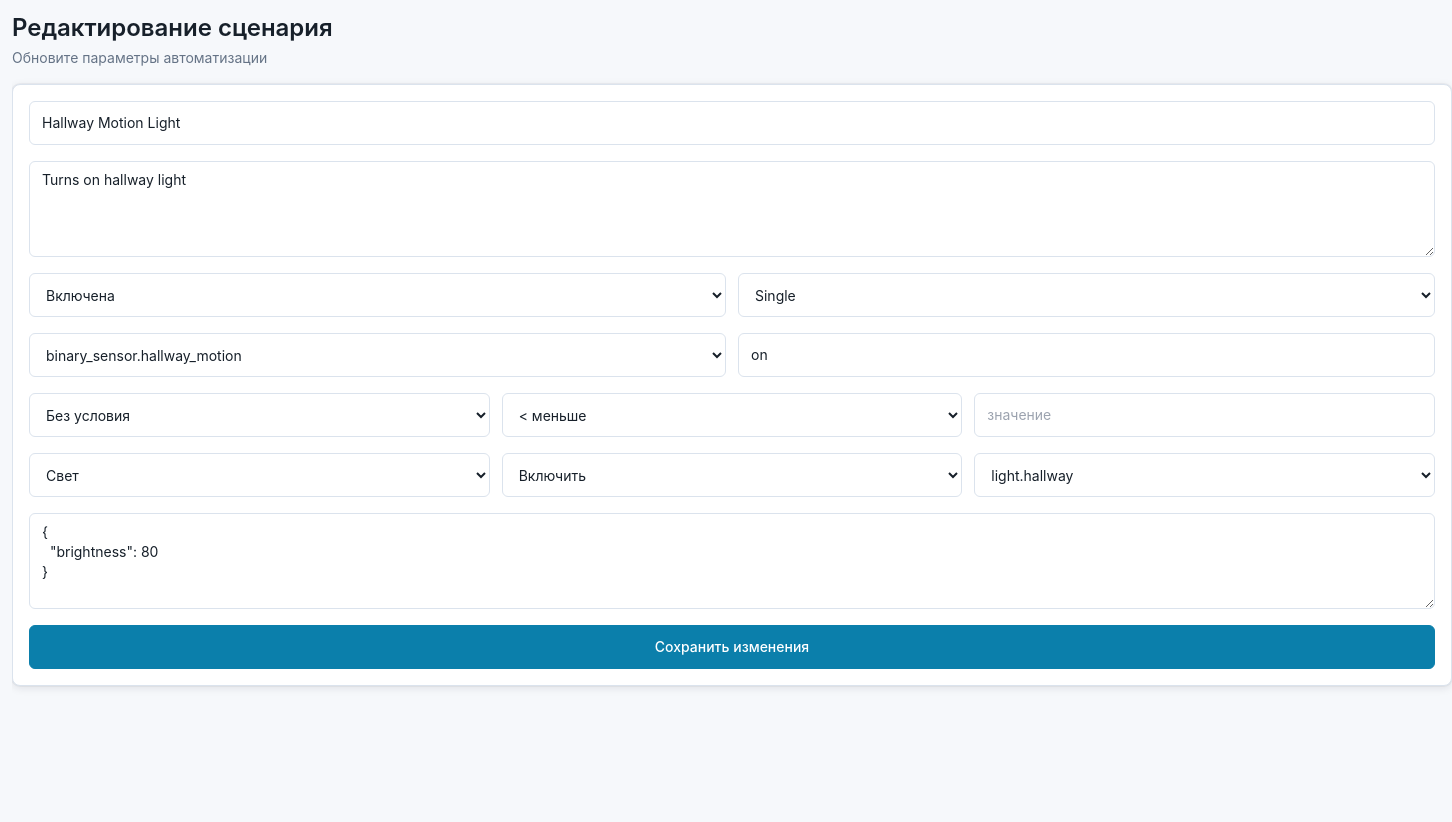
it: AutomationEditPage › hydrates the form and submits updated automation payload
Replace the text in the field named "Название" with "Updated Hallway Motion Light". click: (732, 123)
box: [29,101,1435,145]
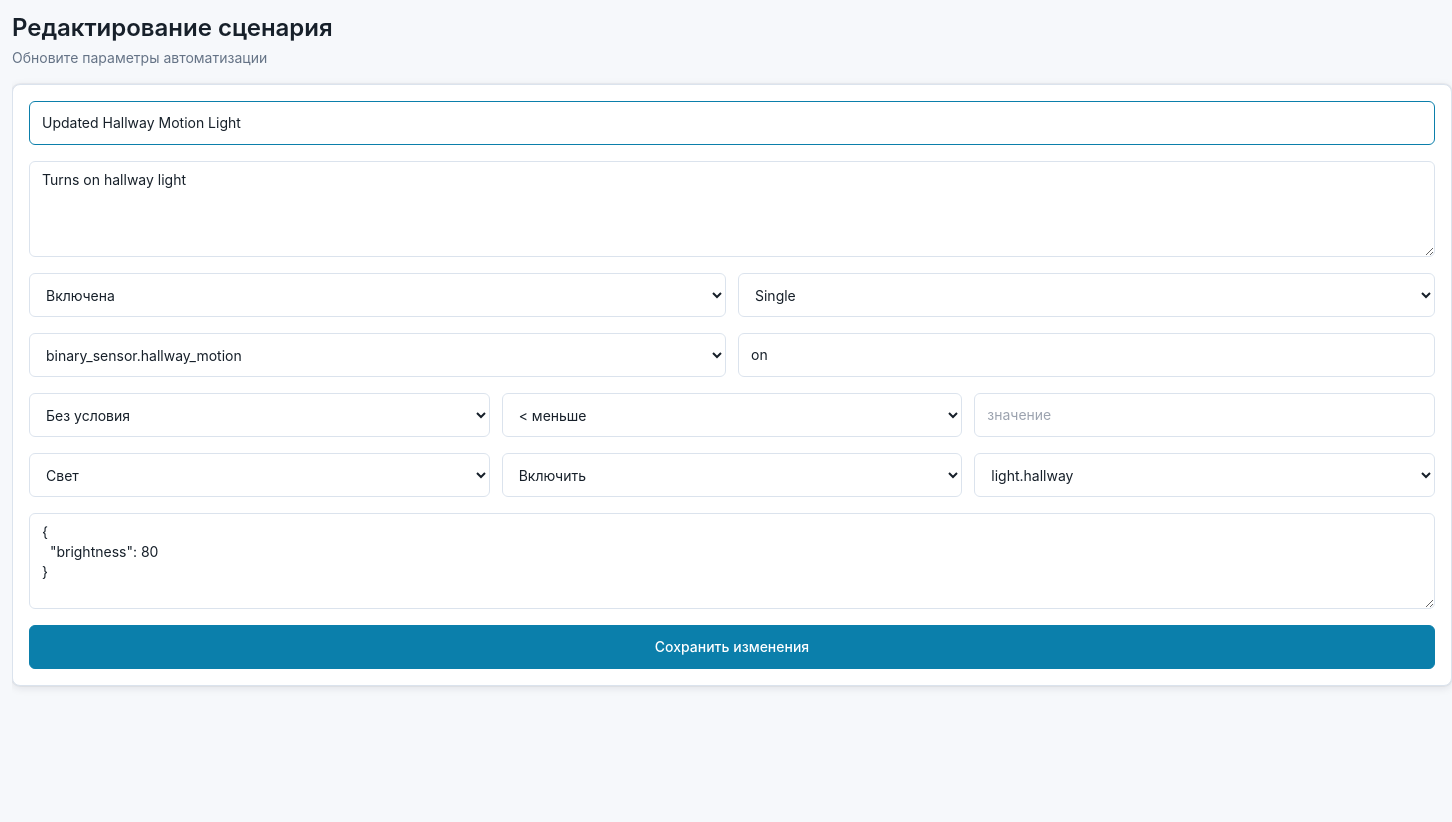
Click the button "Сохранить изменения". click: (732, 647)
box: [29,625,1435,669]
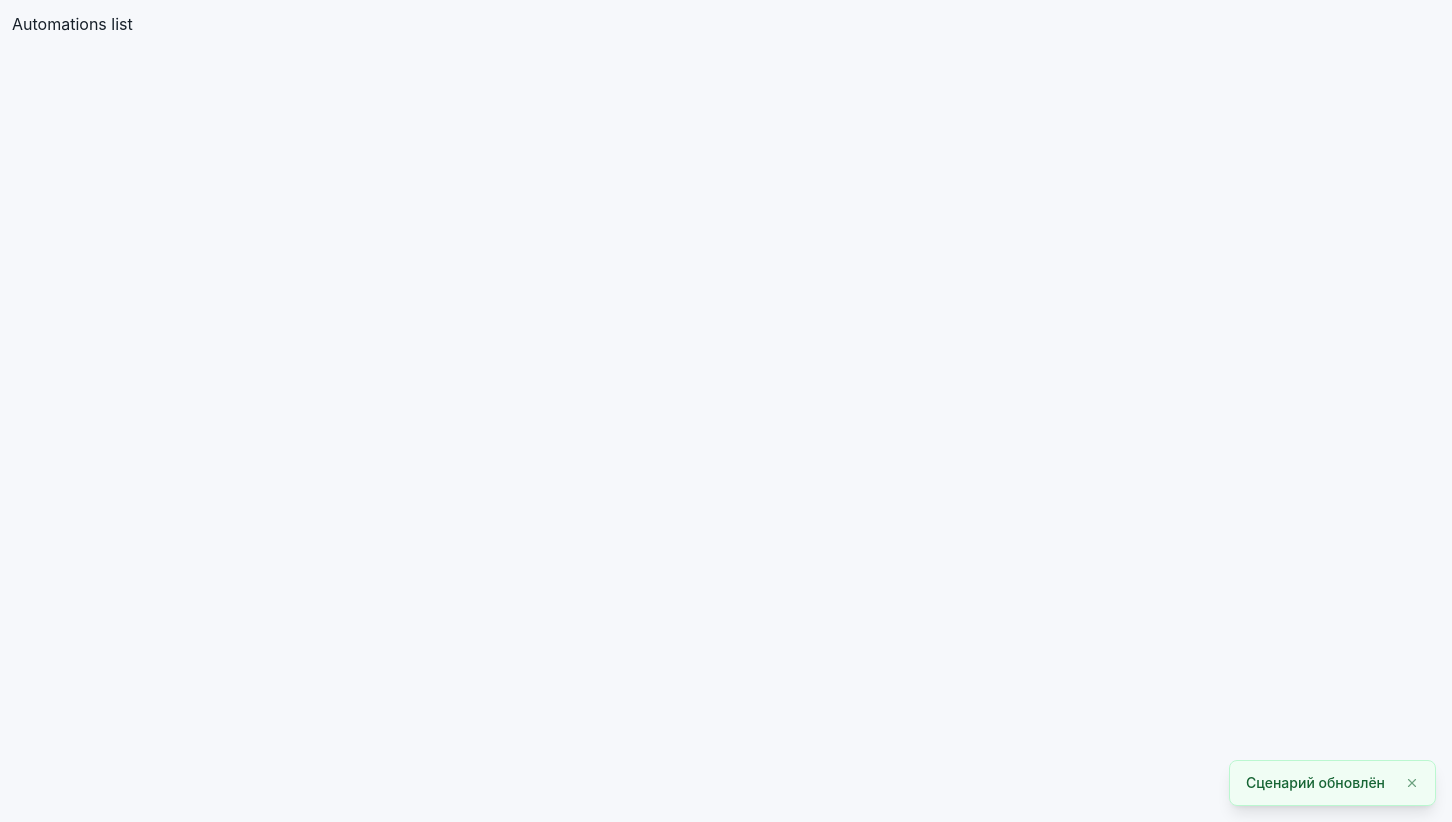
Result: the text "Automations list" is shown at [12,14,133,34]
